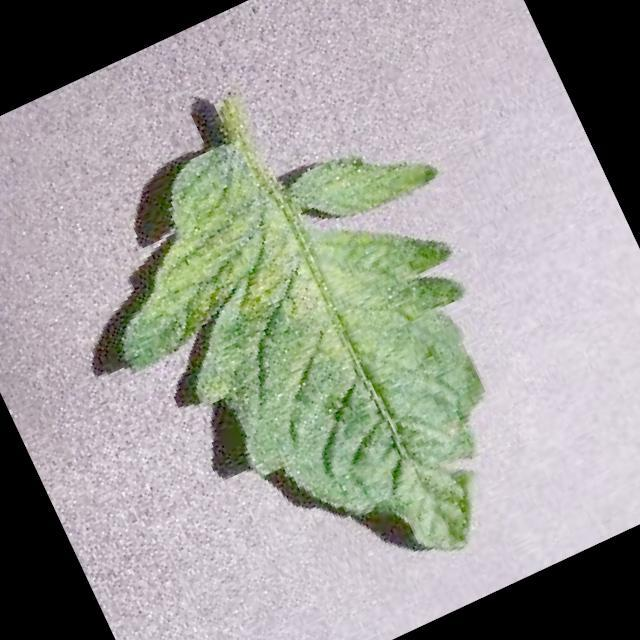Tomato mosaic virus leaf: (47, 60, 589, 640)
